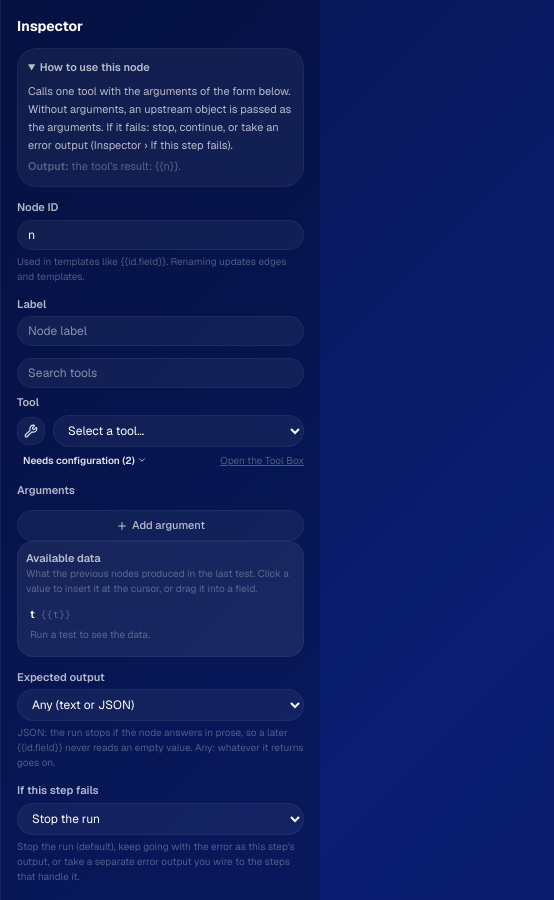
Test: tool picker grouping › keeps the needs-config group collapsed by default and expands it on click, with a link to the Tool Box
Click the button "Needs configuration (2)" at x=85, y=460, box top-left (17, 451), bottom-right (153, 470)
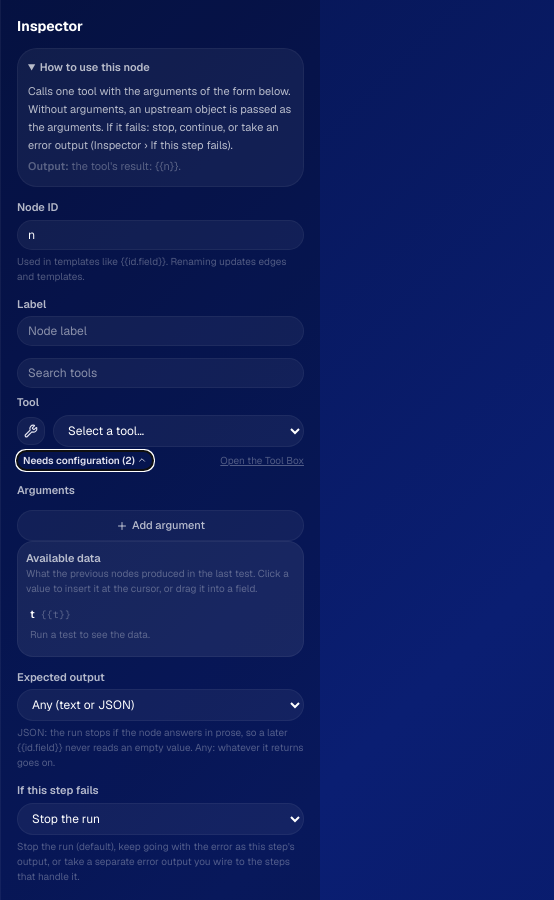
Check: the button "Needs configuration (2)" is expanded, box top-left (17, 451), bottom-right (153, 470)
